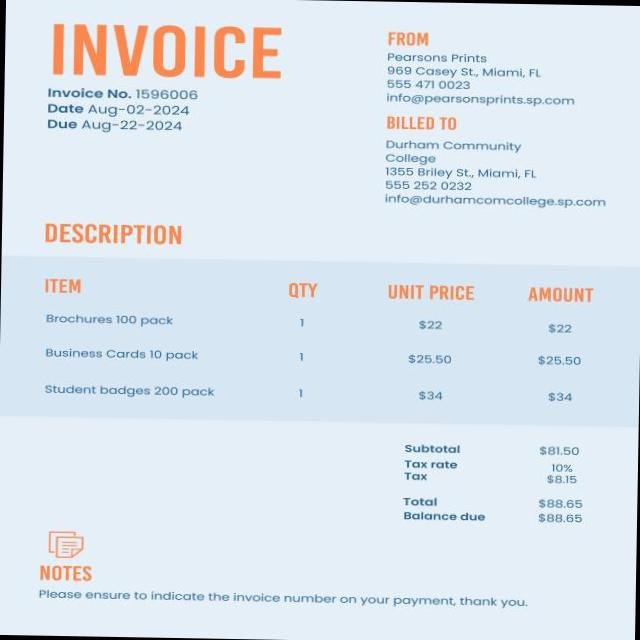customer_address: (381, 162, 539, 182)
customer_name: (381, 135, 529, 166)
due_date: (77, 116, 186, 134)
invoice_date: (86, 99, 194, 119)
invoice_number: (133, 83, 200, 102)
invoice_subtotal: (533, 439, 583, 456)
invoice_total: (535, 496, 587, 510)
item_description: (32, 303, 234, 407)
item_quantity: (282, 303, 316, 408)
item_total_price: (526, 308, 590, 412)
item_unit_price: (394, 312, 466, 410)
supplier_address: (382, 62, 556, 79)
supplier_name: (378, 48, 496, 65)
tax_amount: (544, 474, 582, 486)
tax_rate: (549, 461, 577, 473)
